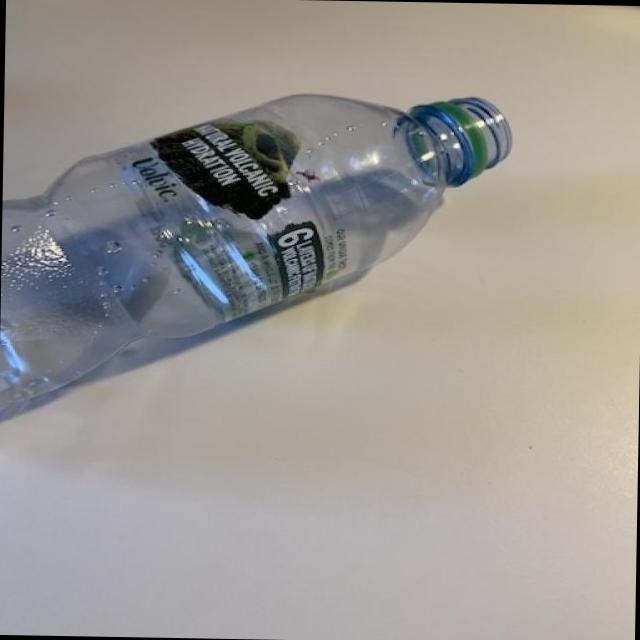plastic_bottle: (0, 87, 513, 433)
